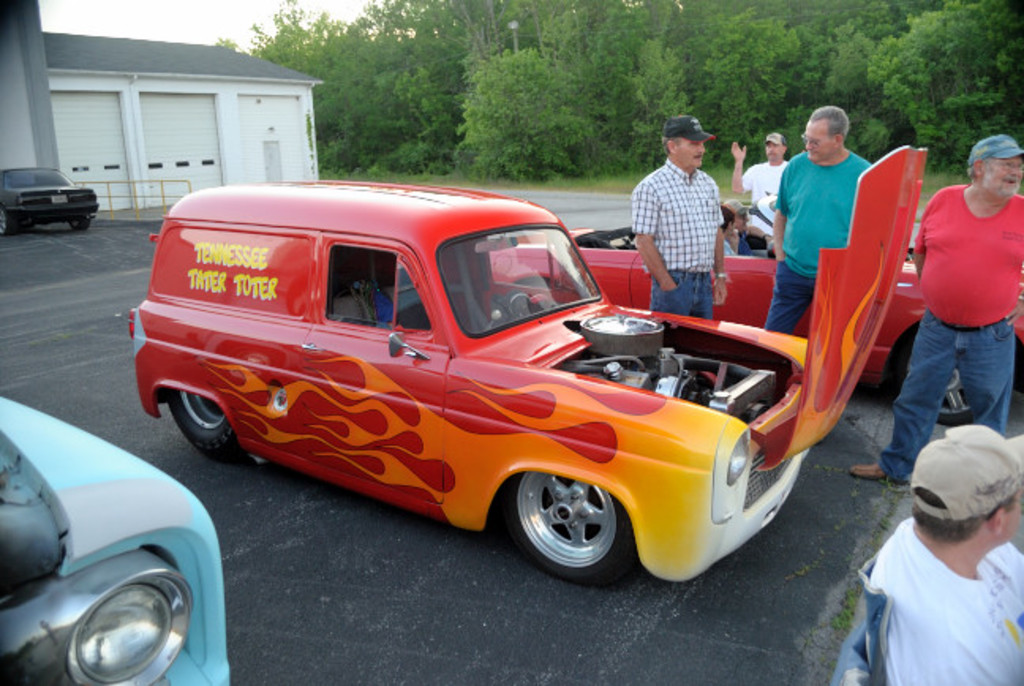Car: (126, 145, 922, 575), (0, 388, 230, 684), (0, 162, 94, 230)
